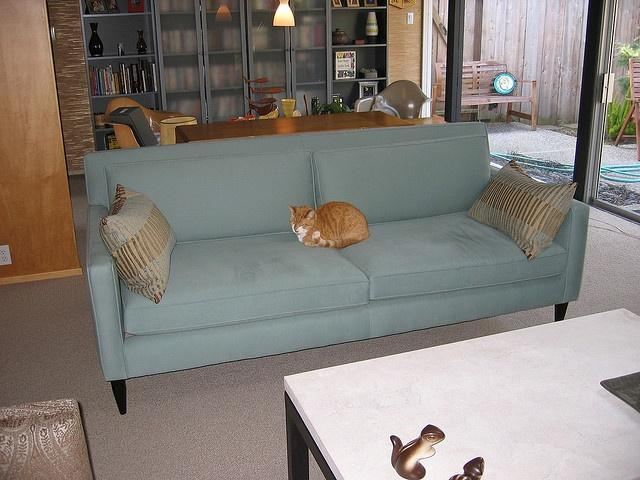Lemari: (152, 0, 248, 127), (245, 0, 329, 119)
Meja: (281, 305, 639, 479)
Rak: (78, 0, 161, 151), (328, 0, 388, 113)
